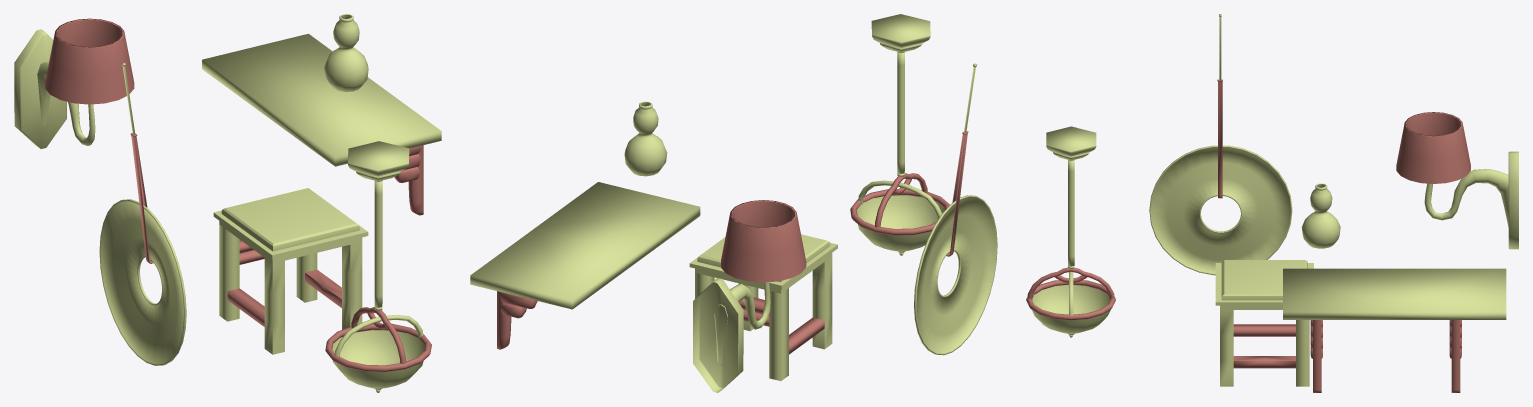
Rendered from modelos_batch_1.fbx.
3 views of the same model, side by side, from view 1: azimuth 30°, elevation 25°; view 2: azimuth 150°, elevation 25°; view 3: azimuth 270°, elevation 25° (orthographic). The views are drawn at different scales.
Visible parts, largest first — view 1: Estante_barra, Taburete, Platillo, Pantalla_lampara, Base_lampara, Sphere001, Cylinder004, Jarron, Posapies_silla, Torus002, Cuello_lampara, Estante_soportes (+3 smaller); view 2: Estante_barra, Platillo, Taburete, Pantalla_lampara, Base_lampara, Sphere001, Cylinder004, Jarron, Estante_soportes, Torus002, Cuello_lampara, Posapies_silla (+3 smaller); view 3: Platillo, Estante_barra, Taburete, Pantalla_lampara, Sphere001, Cylinder004, Jarron, Estante_soportes, Posapies_silla, Cuello_lampara, Base_lampara, Torus002 (+2 smaller).
Part boxes in pixels (x1,y1,x2,y2): Estante_barra: (202,33,441,166); Taburete: (213,188,368,354); Platillo: (99,199,186,365); Pantalla_lampara: (45,18,134,104); Base_lampara: (14,29,66,148); Sphere001: (332,330,424,392); Cylinder004: (348,141,409,310); Jarron: (324,14,368,91); Posapies_silla: (227,239,341,326); Torus002: (325,323,431,372); Cuello_lampara: (37,61,95,145); Estante_soportes: (394,145,423,215); Estante_barra: (470,182,700,309); Platillo: (914,195,997,355); Taburete: (689,234,837,380); Pantalla_lampara: (721,200,806,282); Base_lampara: (693,278,743,392); Sphere001: (857,195,944,255); Cylinder004: (871,14,930,176); Jarron: (624,101,667,176); Estante_soportes: (497,291,537,349); Torus002: (850,189,949,235); Cuello_lampara: (714,282,770,365); Posapies_silla: (739,297,824,354); Platillo: (1149,145,1292,275); Estante_barra: (1283,268,1506,319); Taburete: (1215,260,1313,386); Pantalla_lampara: (1396,112,1470,183); Sphere001: (1032,284,1110,337); Cylinder004: (1046,126,1096,268); Jarron: (1301,183,1340,248); Estante_soportes: (1310,320,1461,392); Posapies_silla: (1233,324,1295,368); Cuello_lampara: (1424,169,1508,227); Base_lampara: (1508,151,1518,249); Torus002: (1026,280,1115,320).
Size of the model in its own units: 670 by 588 by 956.
